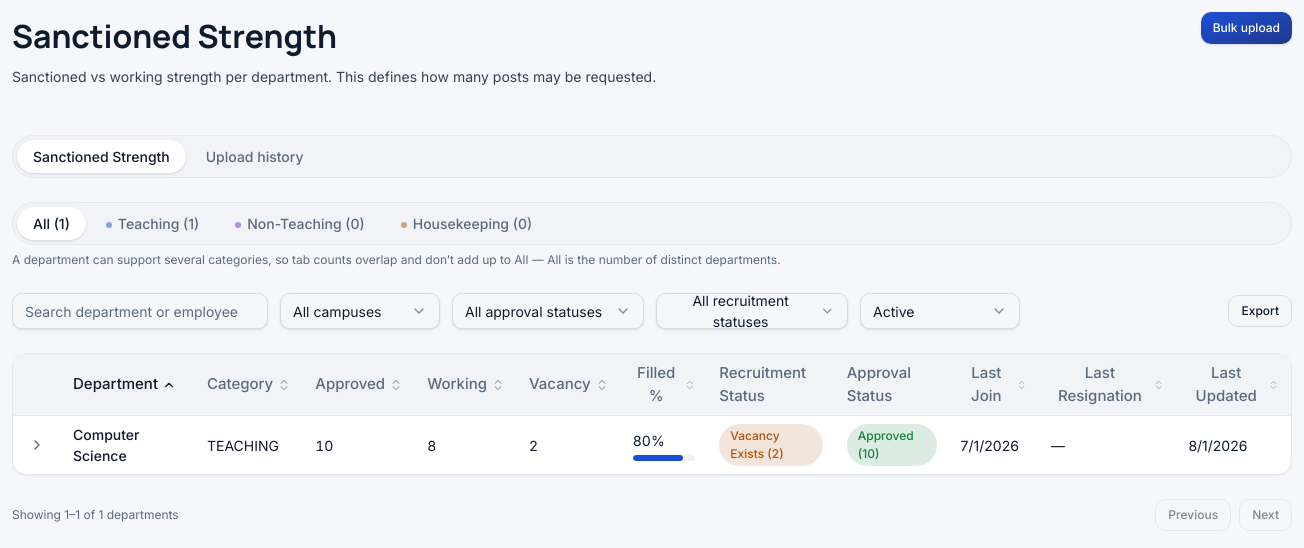
Test: SanctionedStrengthPage › shows a filters-narrowed empty state (distinct wording) when a filter is active and the result is empty
Expected: the button "Computer Science" is shown, [73,424,183,466]
Click the dropdown named "Approval status filter".
click(548, 311)  # box [452,293,644,329]
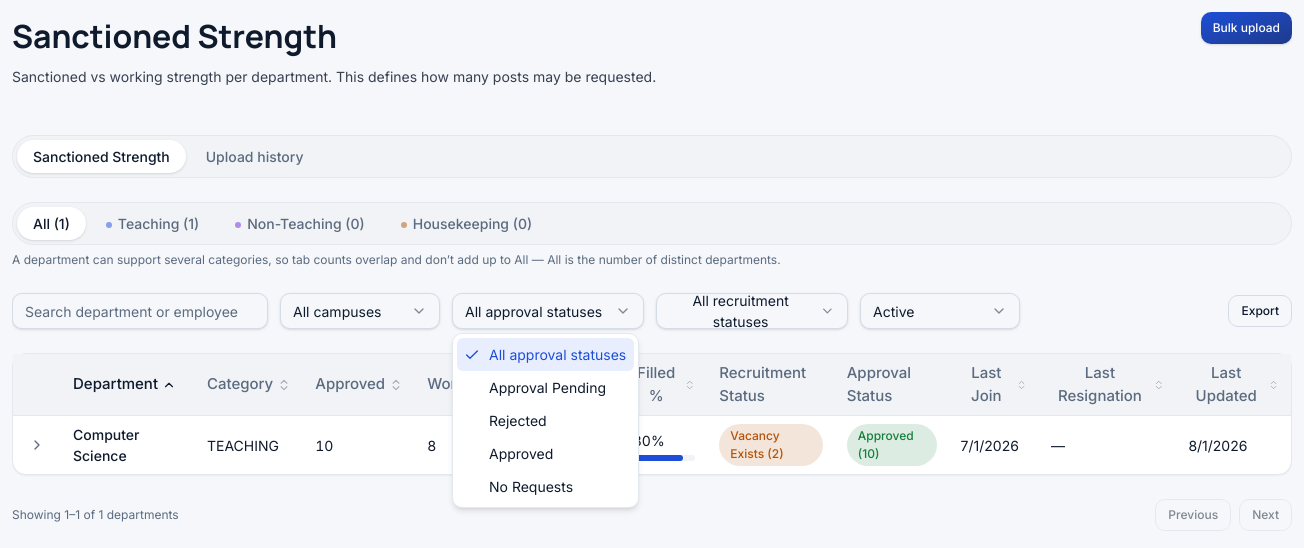
Click the option "Approval Pending".
click(548, 388)  # box [489,379,606,396]
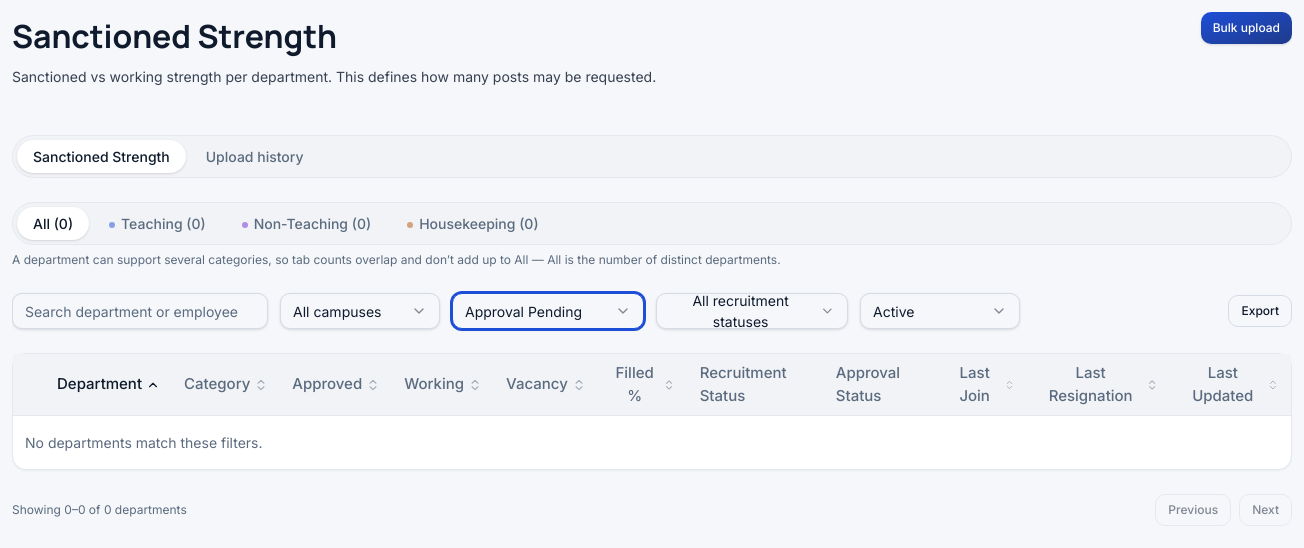
Now the text "No departments match these filters." is shown, box [13,416,1291,469]
